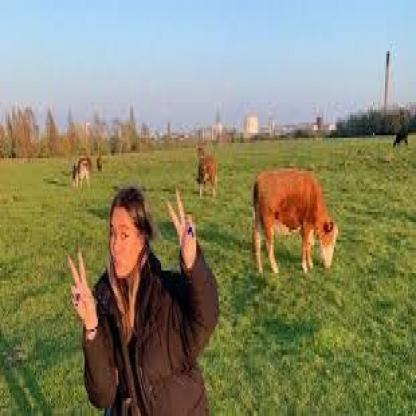cow: (252, 168, 338, 276), (198, 158, 219, 199), (72, 157, 92, 190)
